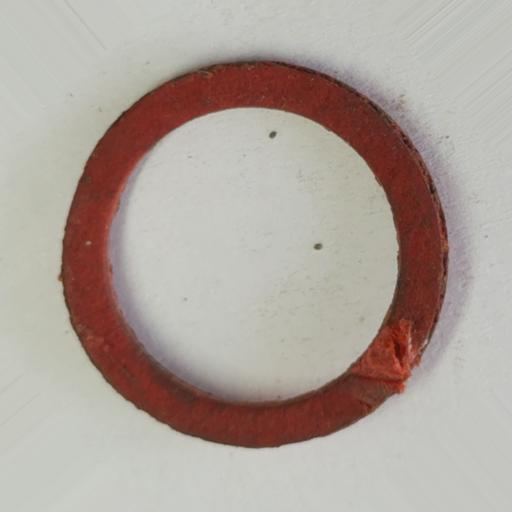defect: (349, 317, 424, 395)
